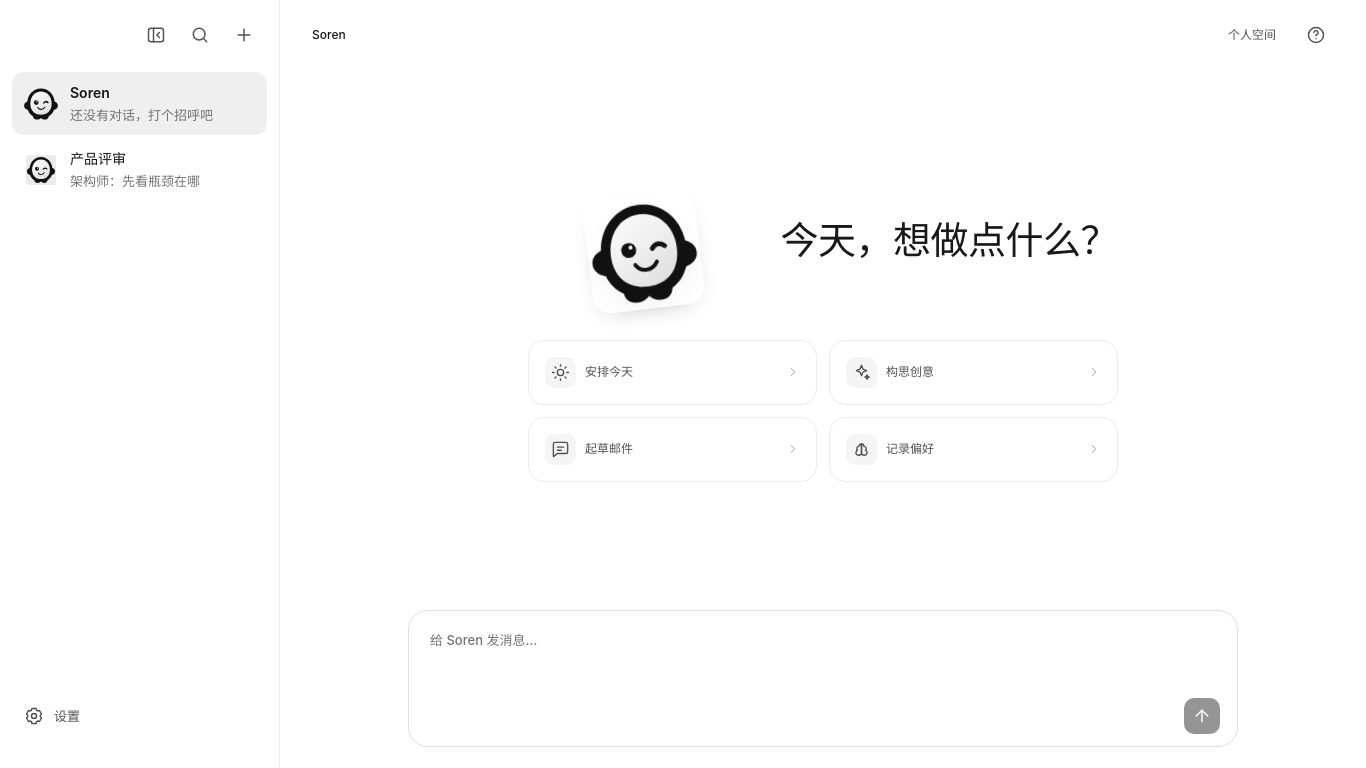
it: 群聊发言人解析 › 发言 Bot 被删除时用冗余的发言人名，头像回退到品牌标识
The image size is (1366, 768).
Click the button "产品评审 架构师：先看瓶颈在哪": [140, 170] box [12, 138, 267, 201]
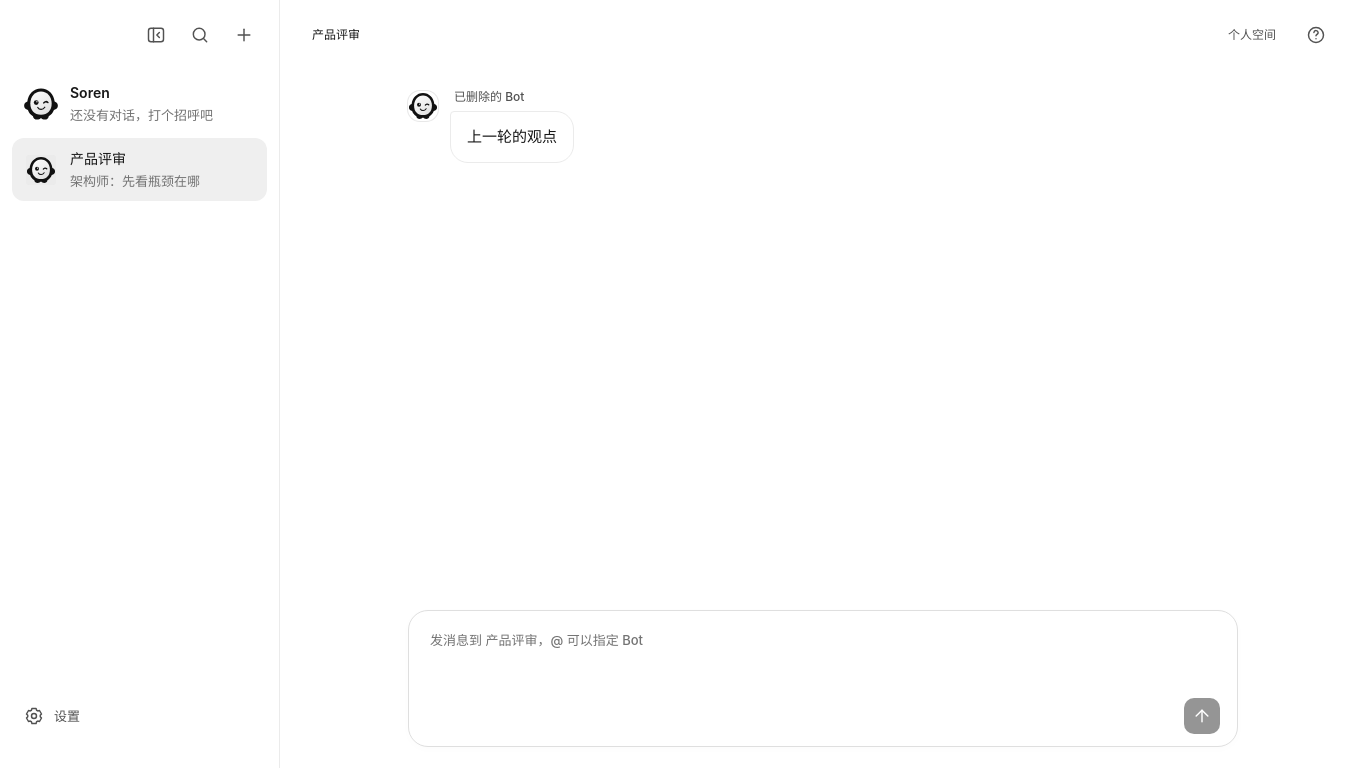
Expected: the text "已删除的 Bot" is shown, [454, 89, 524, 104]
